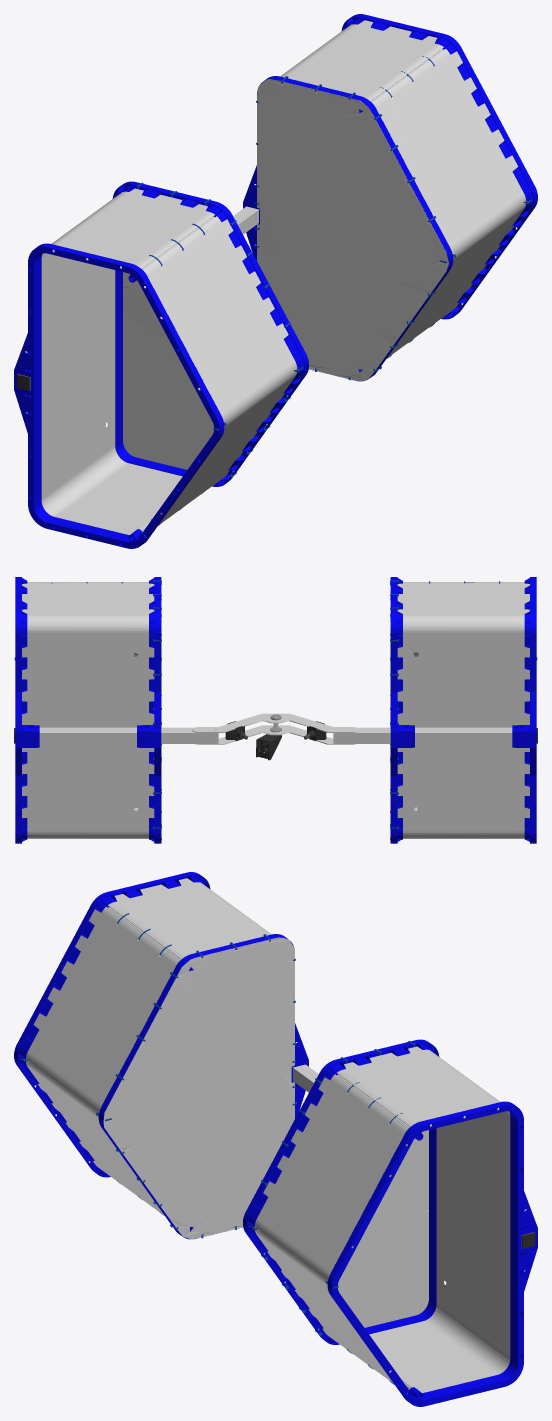
Rendered from blue-hive.obj.
The picture shows the model from 3 angles, top to bottom: view 1: azimuth 30°, elevation 25°; view 2: azimuth 150°, elevation 25°; view 3: azimuth 270°, elevation 25°; orthographic projection. The views are drawn at different scales.
Visible parts, largest first — view 1: blue-hive-E6E6E6, blue-hive-0000FF, blue-hive-1651B0; view 2: blue-hive-E6E6E6, blue-hive-0000FF, blue-hive-303030, blue-hive-1651B0; view 3: blue-hive-E6E6E6, blue-hive-0000FF, blue-hive-1651B0.
Part boxes in pixels (x1,y1,x2,y2): blue-hive-E6E6E6: [17, 20, 526, 535]; blue-hive-0000FF: [14, 14, 537, 548]; blue-hive-1651B0: [136, 55, 532, 525]; blue-hive-E6E6E6: [22, 578, 529, 842]; blue-hive-0000FF: [15, 577, 536, 843]; blue-hive-303030: [14, 721, 537, 760]; blue-hive-1651B0: [14, 580, 537, 839]; blue-hive-E6E6E6: [25, 878, 534, 1393]; blue-hive-0000FF: [14, 872, 537, 1406]; blue-hive-1651B0: [19, 913, 415, 1384].
Size of the model in its own units: 45.19 by 21.19 by 35.37.
